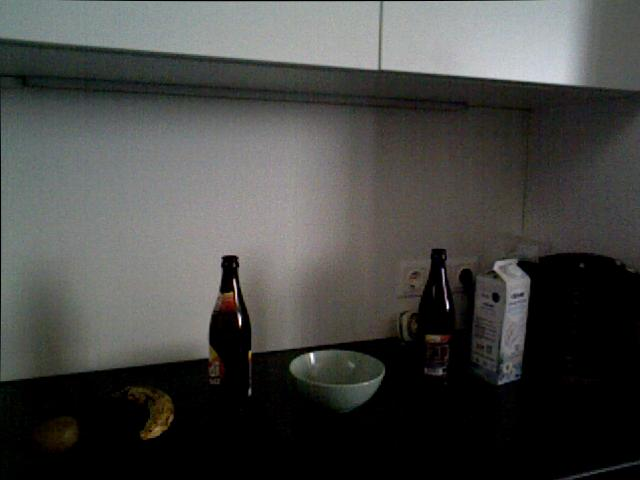banana: (108, 382, 180, 443)
bottle: (468, 256, 532, 389), (207, 254, 252, 400), (417, 247, 456, 382)
bowl: (288, 348, 385, 413)
clock: (395, 308, 423, 345)
